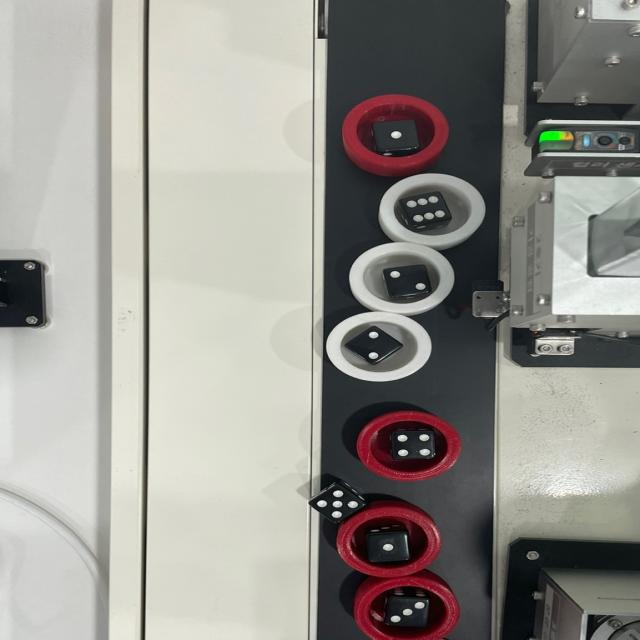DICE1: (381, 122, 422, 149), (369, 533, 410, 559)
DICE2: (390, 262, 434, 293), (351, 331, 392, 361)
DICE3: (389, 598, 429, 625)
DICE4: (396, 432, 437, 460)
DICE5: (311, 487, 359, 519)
DICE6: (408, 196, 450, 224)
RedChip: (348, 97, 448, 170), (345, 508, 443, 577), (361, 412, 462, 478), (354, 580, 460, 640)
WhiteChip: (384, 171, 489, 245), (324, 310, 431, 381), (356, 243, 460, 312)
